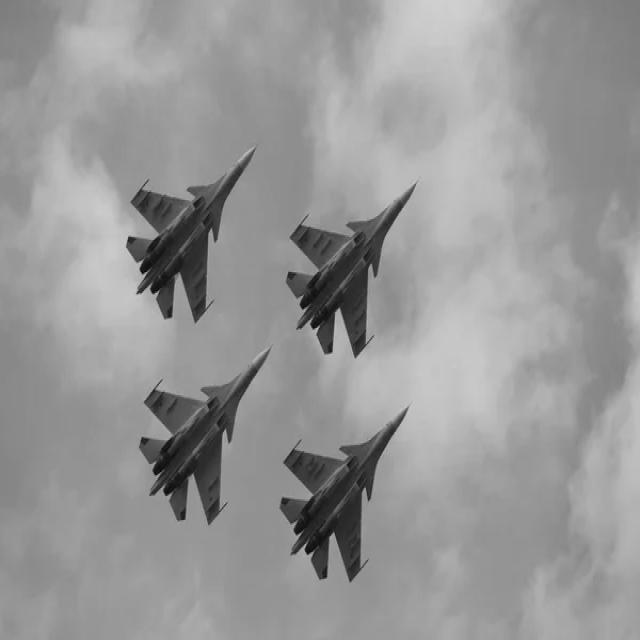Aircraft: (279, 393, 427, 588), (132, 344, 270, 544), (282, 171, 419, 369), (119, 138, 253, 326)
